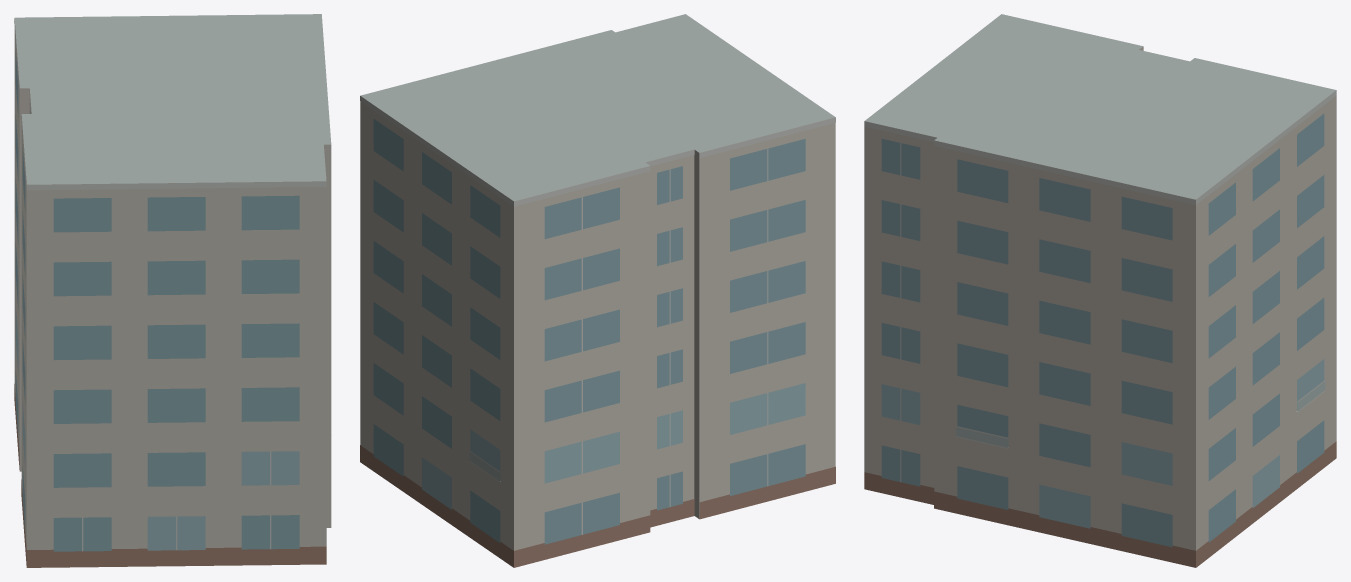
The model's file is survey-upis-32657517.glb.
3 views of the same model, side by side, from view 1: azimuth 30°, elevation 25°; view 2: azimuth 150°, elevation 25°; view 3: azimuth 270°, elevation 25° (orthographic). The views are drawn at different scales.
Parts seen in each view (by area): view 1: survey-upis-32657517.tmp; view 2: survey-upis-32657517.tmp; view 3: survey-upis-32657517.tmp.
Boxes of the visible parts, x1,y1,x2,y2 form: survey-upis-32657517.tmp: (14, 14, 331, 567); survey-upis-32657517.tmp: (360, 14, 835, 567); survey-upis-32657517.tmp: (864, 14, 1336, 567).
Size of the model in its own units: 18.08 by 16.7 by 19.42.
